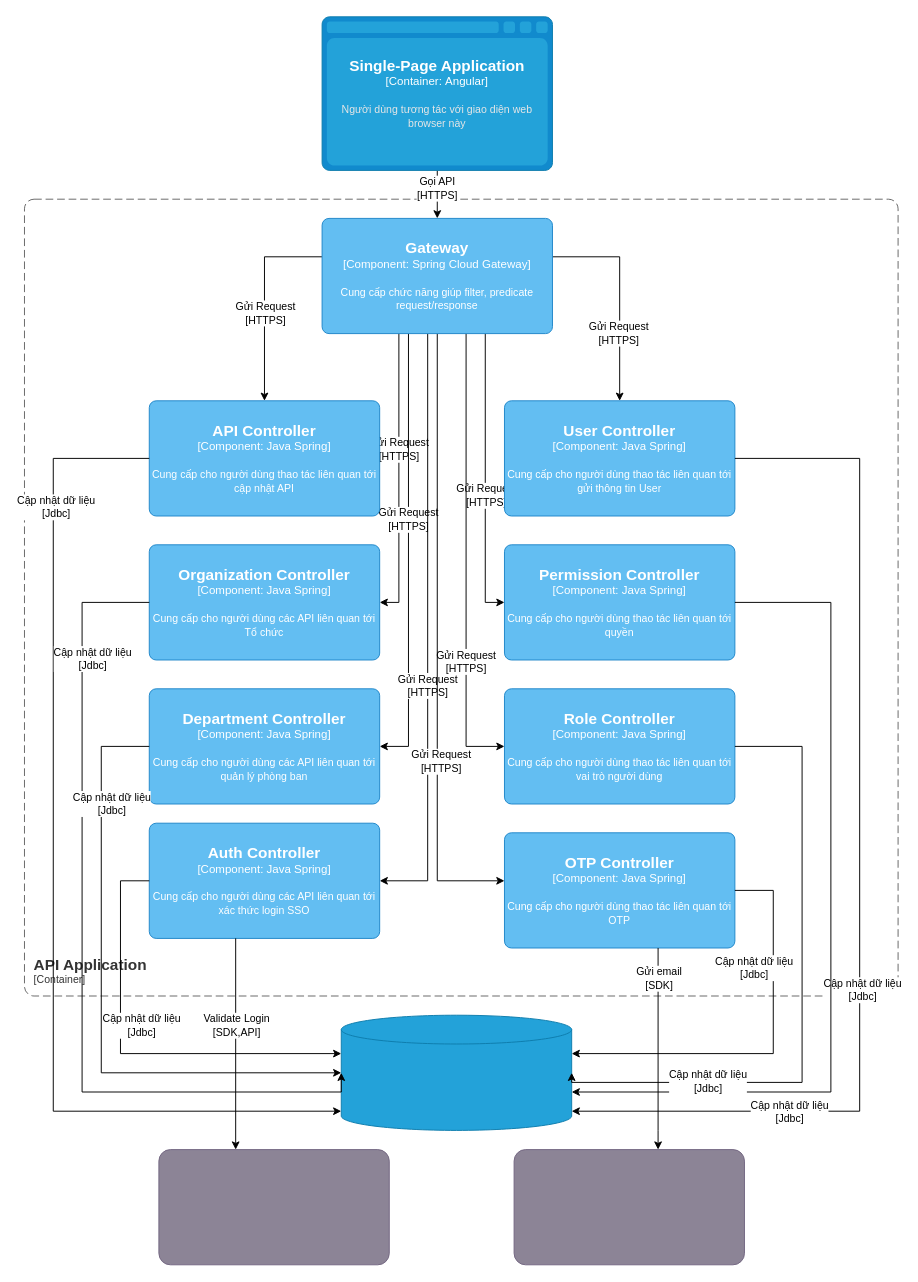
Image size: 918x1282. Some labels were removed from this diagram. The box of each missing label's shape, as (x1, y1, x2, y2) in pixels:
Database [Container: MySQL] MySQL Database Schema: (340, 1014, 572, 1130)
VNPT Email [Software System] Gửi nhận Email VNPT: (513, 1149, 744, 1265)
VNPT SSO Server [Software System] Cung cấp dịch vụ login SSO: (158, 1149, 389, 1265)
